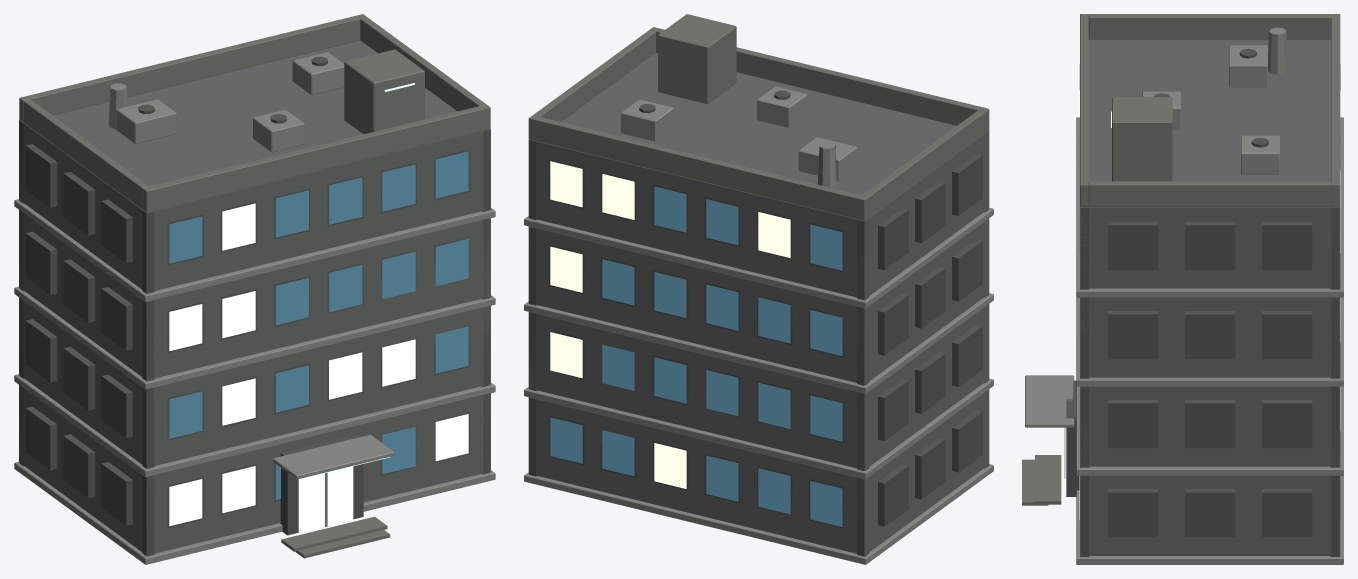
File: office_block_c.glb
3 renders of one model, left to right at view 1: azimuth 30°, elevation 25°; view 2: azimuth 150°, elevation 25°; view 3: azimuth 270°, elevation 25°, orthographic. The views are drawn at different scales.
Visible parts, largest first — view 1: office_block_c_Graphite@utility, office_block_c_DarkAlloy@utility, office_block_c_Concrete@utility, office_block_c_Steel@utility, office_block_c_BlackGlass, office_block_c_WarmGlass, office_block_c_CoolGlass; view 2: office_block_c_Graphite@utility, office_block_c_DarkAlloy@utility, office_block_c_Concrete@utility, office_block_c_Steel@utility, office_block_c_BlackGlass, office_block_c_WarmGlass; view 3: office_block_c_Graphite@utility, office_block_c_DarkAlloy@utility, office_block_c_Concrete@utility, office_block_c_Steel@utility.
Part boxes in pixels (<box>): office_block_c_Graphite@utility: <box>19,40,490,555</box>; office_block_c_DarkAlloy@utility: <box>19,40,490,556</box>; office_block_c_Concrete@utility: <box>19,14,490,558</box>; office_block_c_Steel@utility: <box>14,52,495,564</box>; office_block_c_BlackGlass: <box>169,151,468,500</box>; office_block_c_WarmGlass: <box>169,291,468,532</box>; office_block_c_CoolGlass: <box>222,203,362,399</box>; office_block_c_Graphite@utility: <box>528,53,989,555</box>; office_block_c_DarkAlloy@utility: <box>529,52,988,556</box>; office_block_c_Concrete@utility: <box>528,14,989,220</box>; office_block_c_Steel@utility: <box>524,86,993,564</box>; office_block_c_BlackGlass: <box>550,186,842,526</box>; office_block_c_WarmGlass: <box>550,161,790,488</box>; office_block_c_Graphite@utility: <box>1080,39,1340,555</box>; office_block_c_DarkAlloy@utility: <box>1066,39,1340,556</box>; office_block_c_Concrete@utility: <box>1022,14,1340,505</box>; office_block_c_Steel@utility: <box>1025,27,1343,564</box>.
Size of the model in its own units: 14.56 by 16.13 by 11.12.
